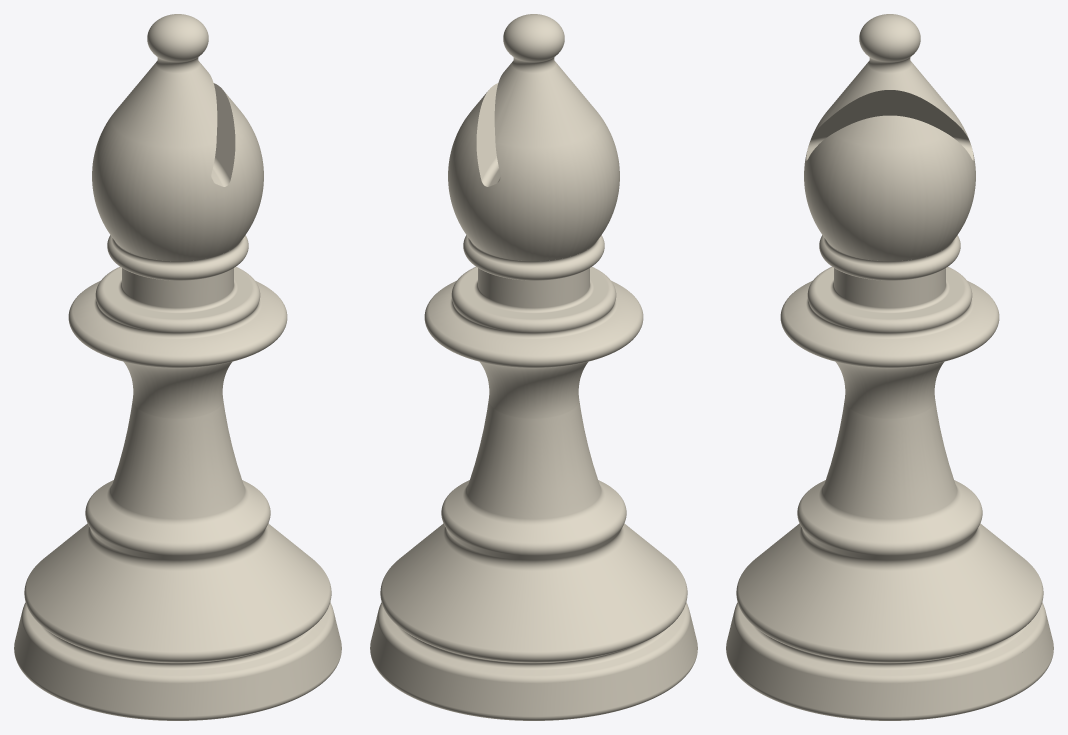
The model's file is bishop_small.glb.
The picture shows the model from 3 angles, left to right: view 1: azimuth 30°, elevation 25°; view 2: azimuth 150°, elevation 25°; view 3: azimuth 270°, elevation 25°; orthographic projection.
Visible parts, largest first — view 1: Object_2; view 2: Object_2; view 3: Object_2.
Boxes of the visible parts, x1=… form: Object_2: x1=14, y1=14, x2=341, y2=720; Object_2: x1=370, y1=14, x2=697, y2=720; Object_2: x1=726, y1=14, x2=1053, y2=720.
Size of the model in its own units: 35.68 by 76.38 by 35.68.
